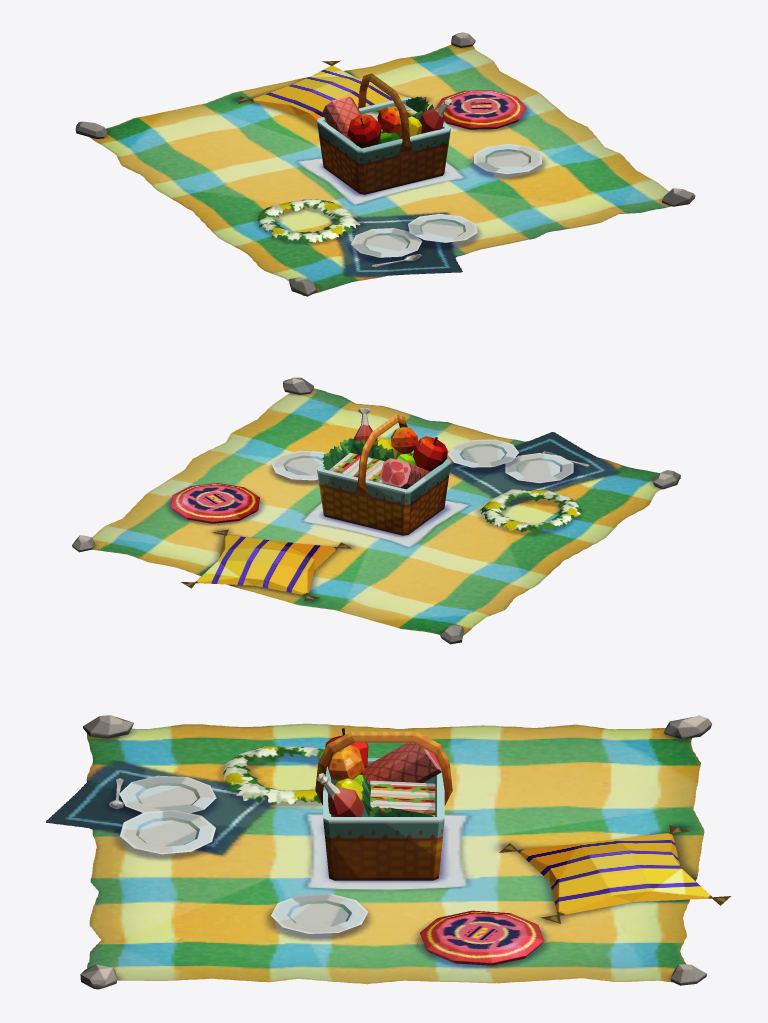
File: deco0004.fbx
3 renders of one model, top to bottom at view 1: azimuth 30°, elevation 25°; view 2: azimuth 150°, elevation 25°; view 3: azimuth 270°, elevation 25°, orthographic. The views are drawn at different scales.
Visible parts, largest first — view 1: alfa, no_alfa; view 2: alfa, no_alfa; view 3: alfa, no_alfa.
Part boxes in pixels (<box>): alfa: <box>89,44,671,295</box>; no_alfa: <box>75,32,695,296</box>; alfa: <box>92,388,680,635</box>; no_alfa: <box>72,377,680,644</box>; alfa: <box>46,723,704,984</box>; no_alfa: <box>80,715,730,989</box>.
Size of the model in its own units: 5 by 0.8998 by 5.
2 materials, 2 textured.
